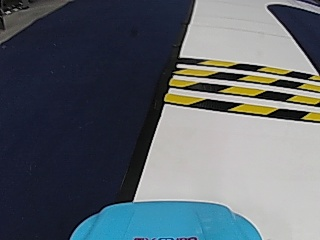bump: (182, 60, 309, 121)
